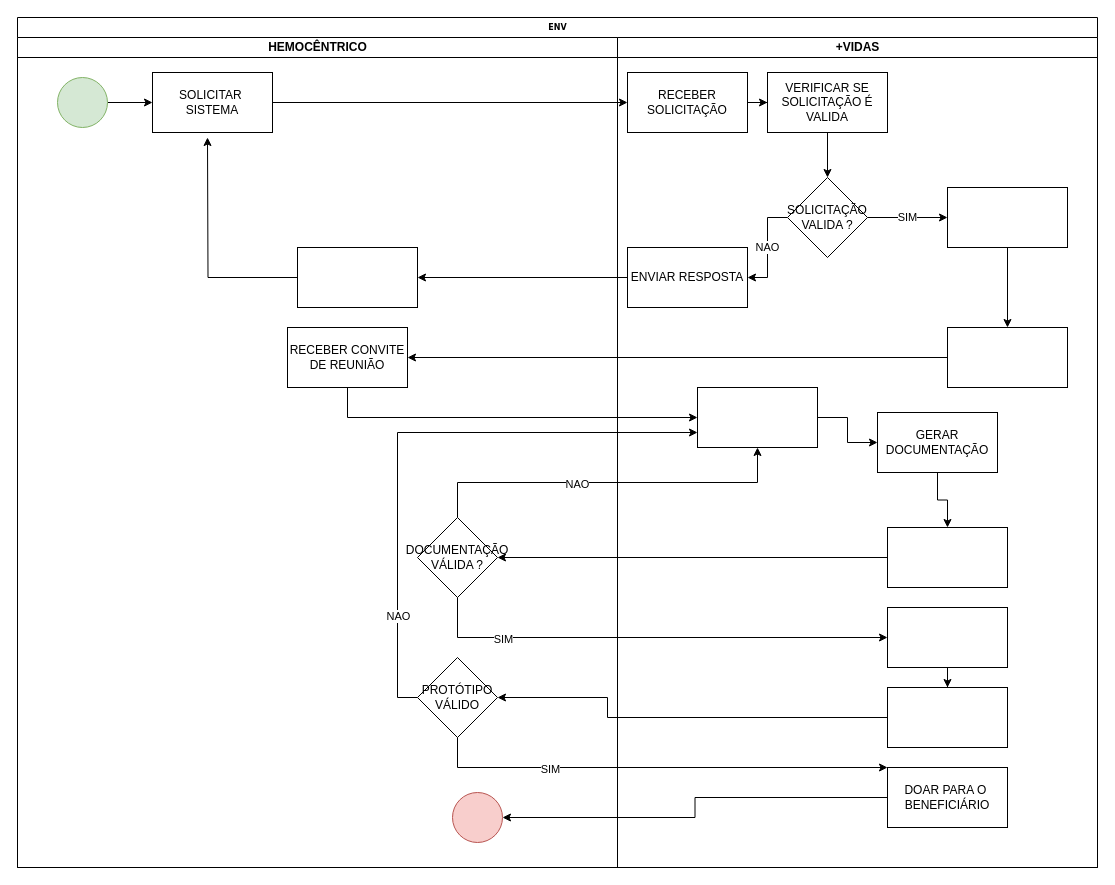
Image size: 1115x885. Some labels were removed from this diagram. Here are the shapes that lost their labels. From the top down, the centre of each, then its label:
(1007,217): MARCAR REUNIÃO
(357,277): RECEBER RESPOSTA
(1007,357): ENVIAR CONVITE PARA REUNIÃO
(757,417): LEVANTAR REQUISITOS/DORES /NECESSIDADES
(947,557): APRESENTAR DOCUMENTAÇÃO
(947,637): GERAR PROTÓTIPO
(947,717): APRESENTAR PROTÓTIPO
